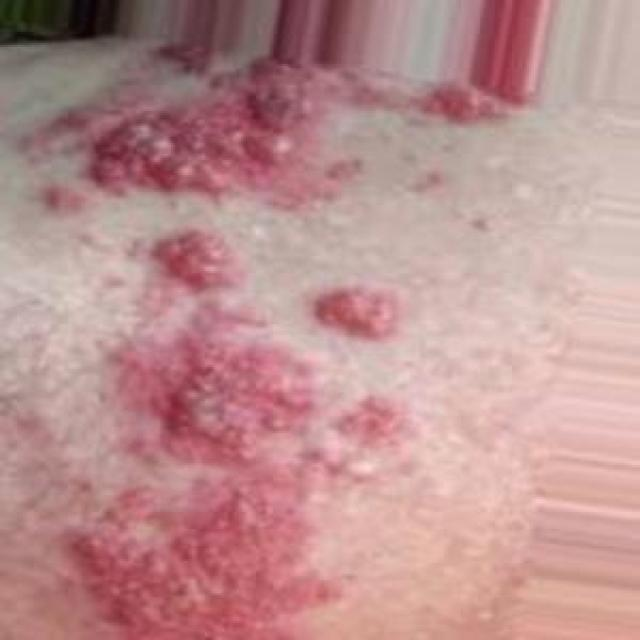Shingles: (69, 225, 405, 640), (12, 45, 504, 206)
